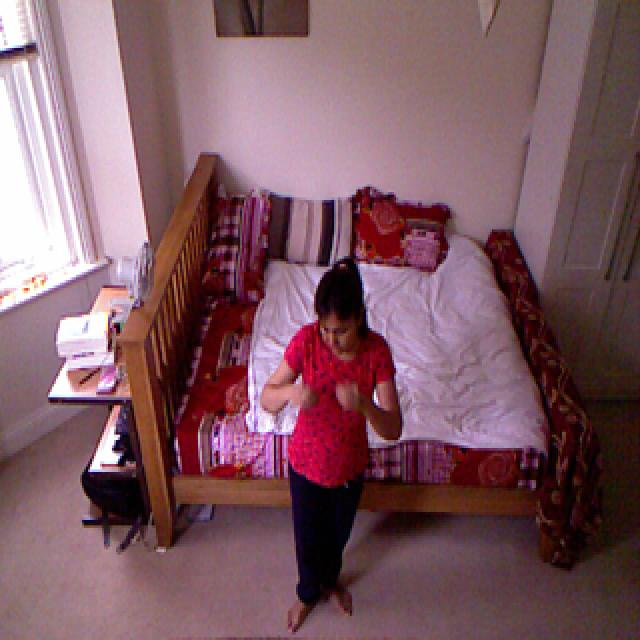standing: (262, 252, 400, 620)
